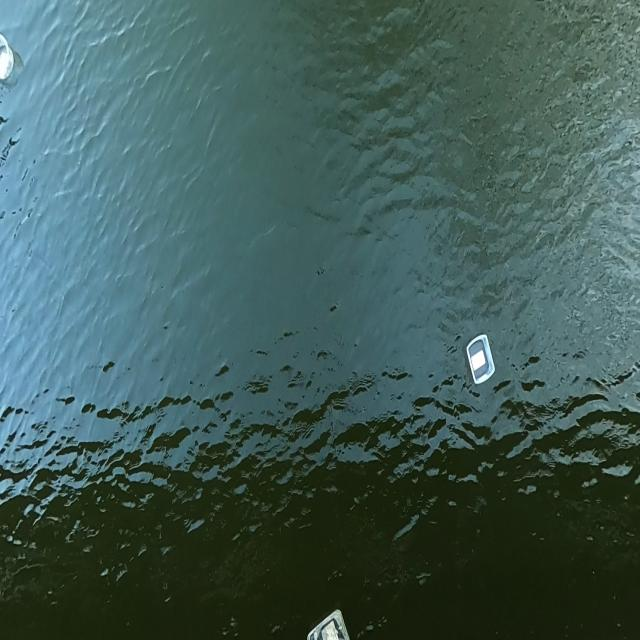Autre plastique: (462, 325, 499, 393), (305, 603, 356, 640), (0, 28, 19, 85)
